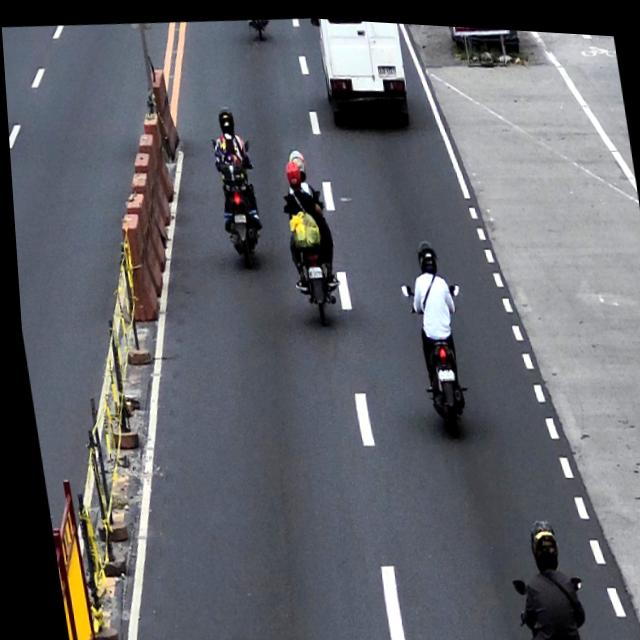Car: (310, 14, 413, 131)
License-Plate: (376, 58, 396, 73), (431, 363, 451, 377), (302, 261, 319, 276), (231, 209, 243, 220)
Motorcycle: (397, 273, 477, 438), (280, 184, 338, 323), (207, 131, 264, 266)
